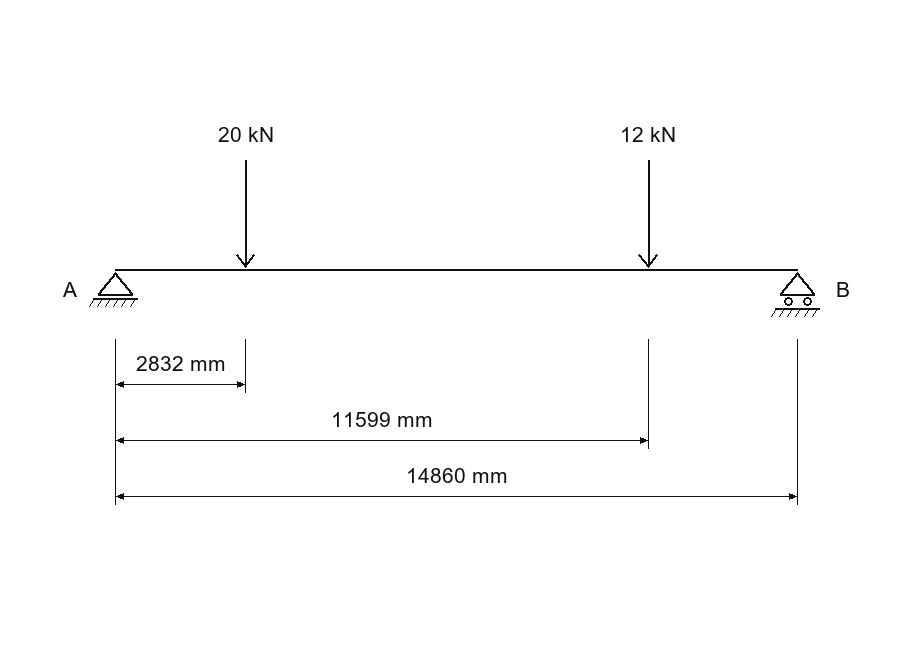pin_support: (89, 272, 138, 307)
point_load: (638, 160, 658, 268), (236, 160, 255, 268)
roller_support: (771, 272, 820, 317)
